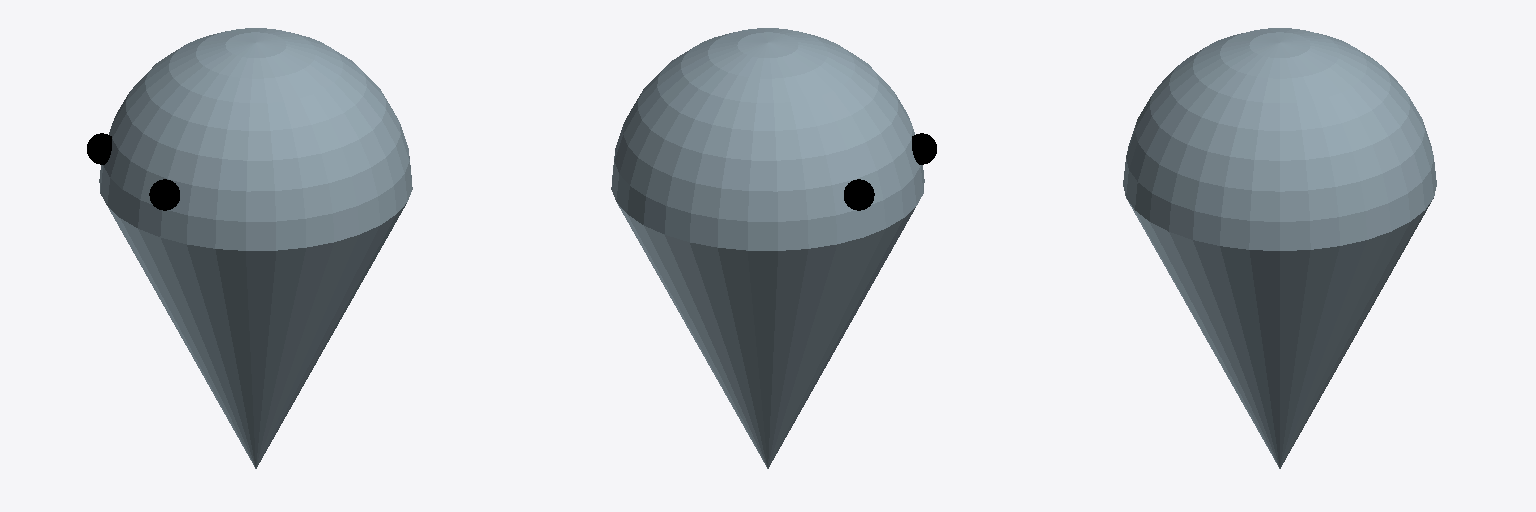
The picture shows the model from 3 angles: view 1: azimuth 30°, elevation 25°; view 2: azimuth 150°, elevation 25°; view 3: azimuth 270°, elevation 25°; orthographic projection.
Parts seen in each view (by area): view 1: 頭_球, 胴体, 眼球R, 眼球L; view 2: 頭_球, 胴体, 眼球L, 眼球R; view 3: 頭_球, 胴体.
Boxes of the visible parts, x1,y1,x2,y2 form: 頭_球: [99, 28, 412, 250]; 胴体: [108, 203, 406, 468]; 眼球R: [149, 179, 179, 210]; 眼球L: [87, 133, 111, 164]; 頭_球: [611, 28, 924, 250]; 胴体: [617, 203, 915, 468]; 眼球L: [844, 179, 874, 210]; 眼球R: [912, 133, 936, 164]; 頭_球: [1123, 28, 1436, 250]; 胴体: [1126, 198, 1433, 468].
Bounding box in the file's own units: 2 × 3 × 2.
Materials: 1 (1 with a texture image).